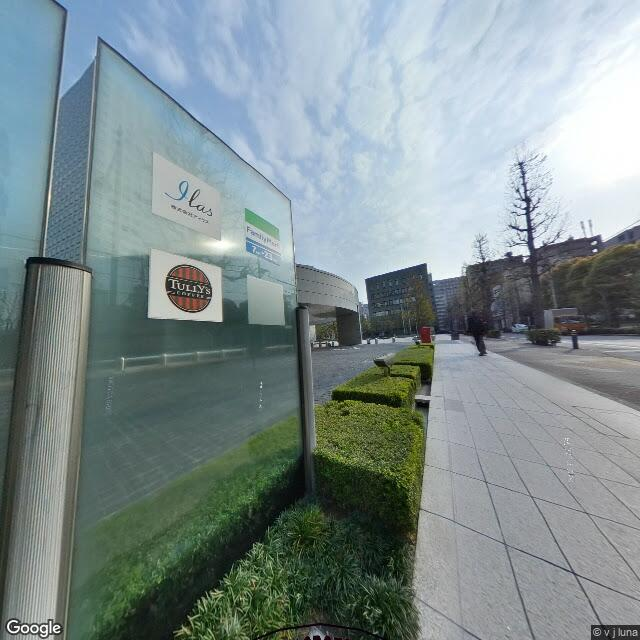family_mart: (244, 204, 285, 260)
